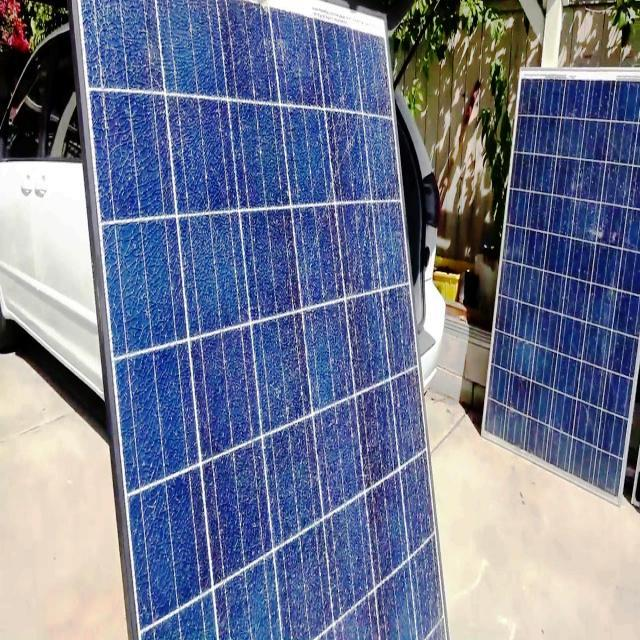faulty: (78, 5, 450, 640), (482, 67, 640, 509)
